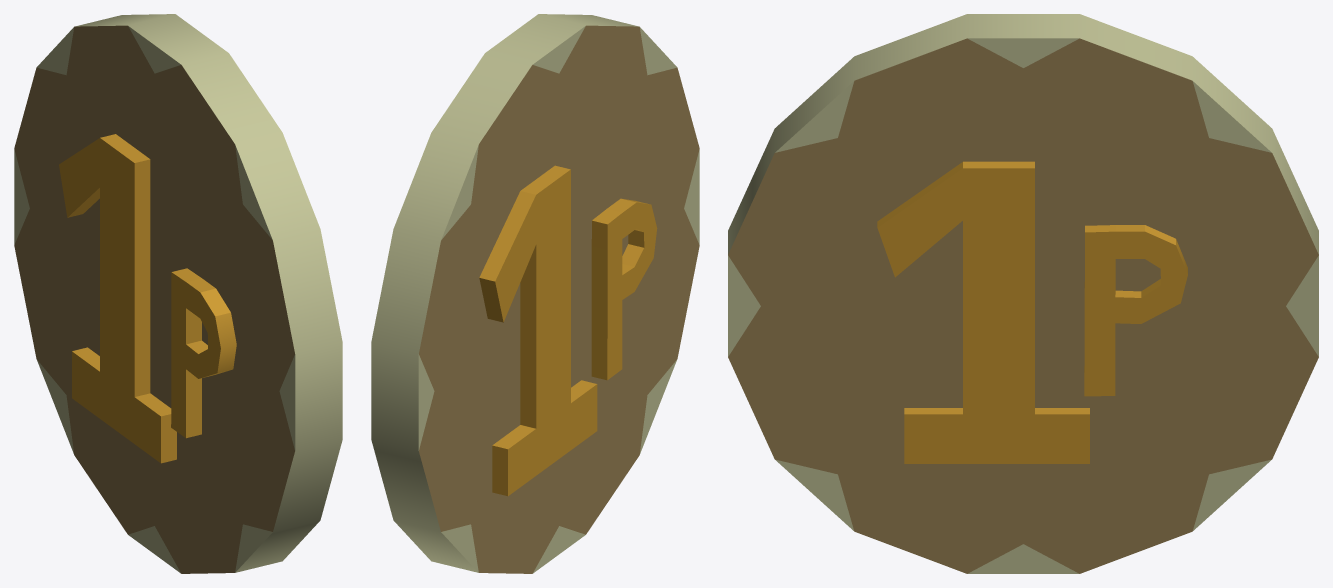
File: coin.fbx
The picture shows the model from 3 angles, left to right: view 1: azimuth 30°, elevation 25°; view 2: azimuth 150°, elevation 25°; view 3: azimuth 270°, elevation 25°; orthographic projection. The views are drawn at different scales.
Visible parts, largest first — view 1: polySurface50; view 2: polySurface50; view 3: polySurface50.
Boxes of the visible parts, x1,y1,x2,y2 form: polySurface50: (14,14,342,573); polySurface50: (371,14,699,573); polySurface50: (728,14,1318,573).
Bounding box in the file's own units: 0.1026 × 0.6539 × 0.6539.
